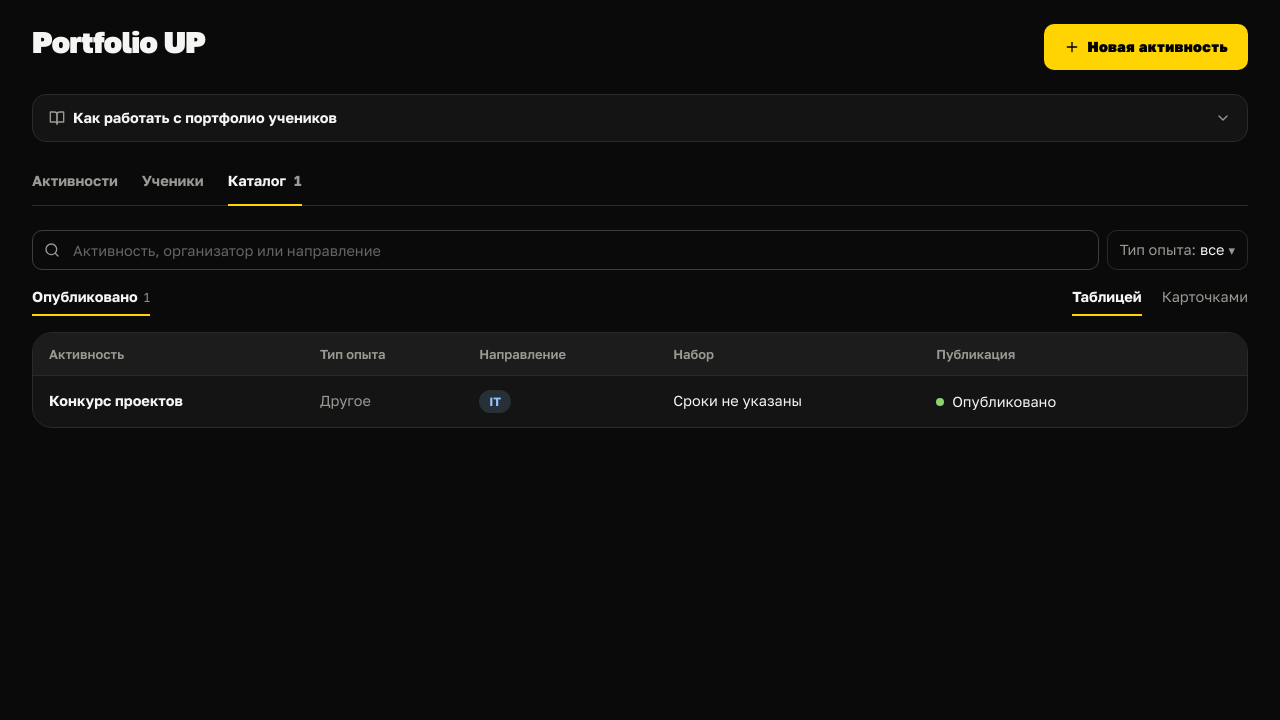
повторная выдача сообщает о существующем участии и сохраняет его план
Click the button "Конкурс проектов": (116, 401) [49,390,183,412]
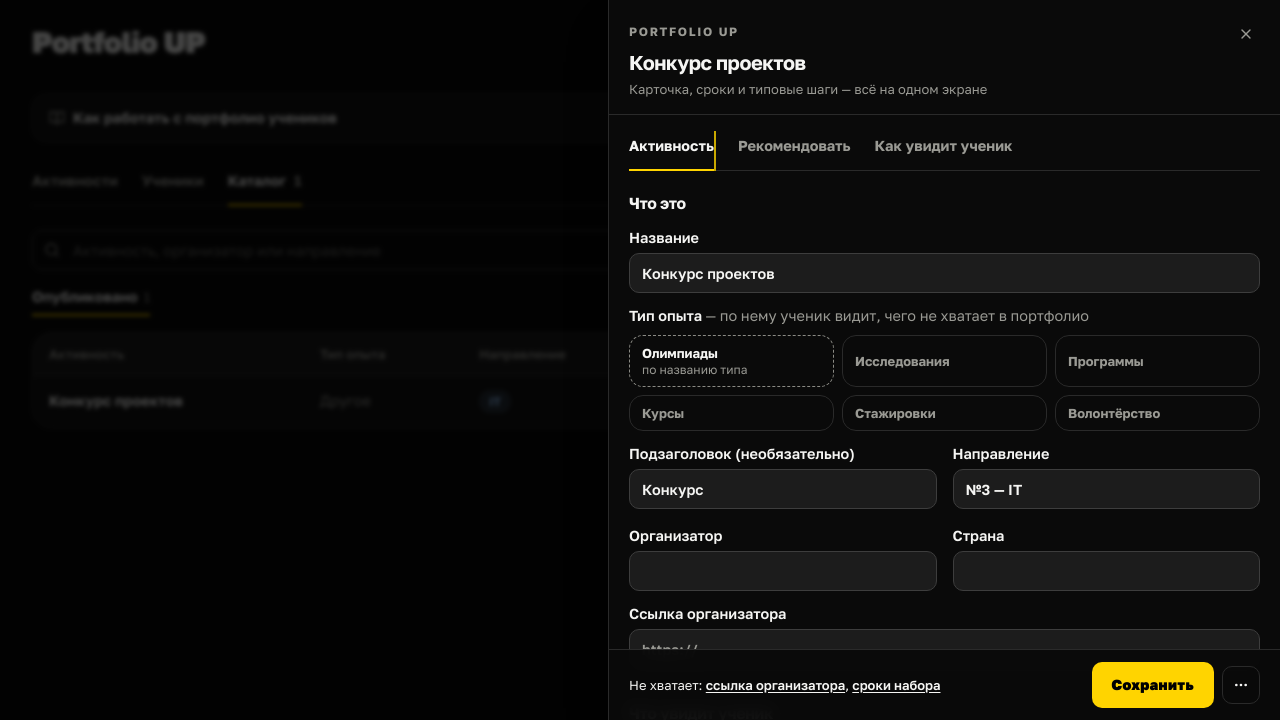
Click the tab "Рекомендовать": (794, 151) [738,131,851,171]
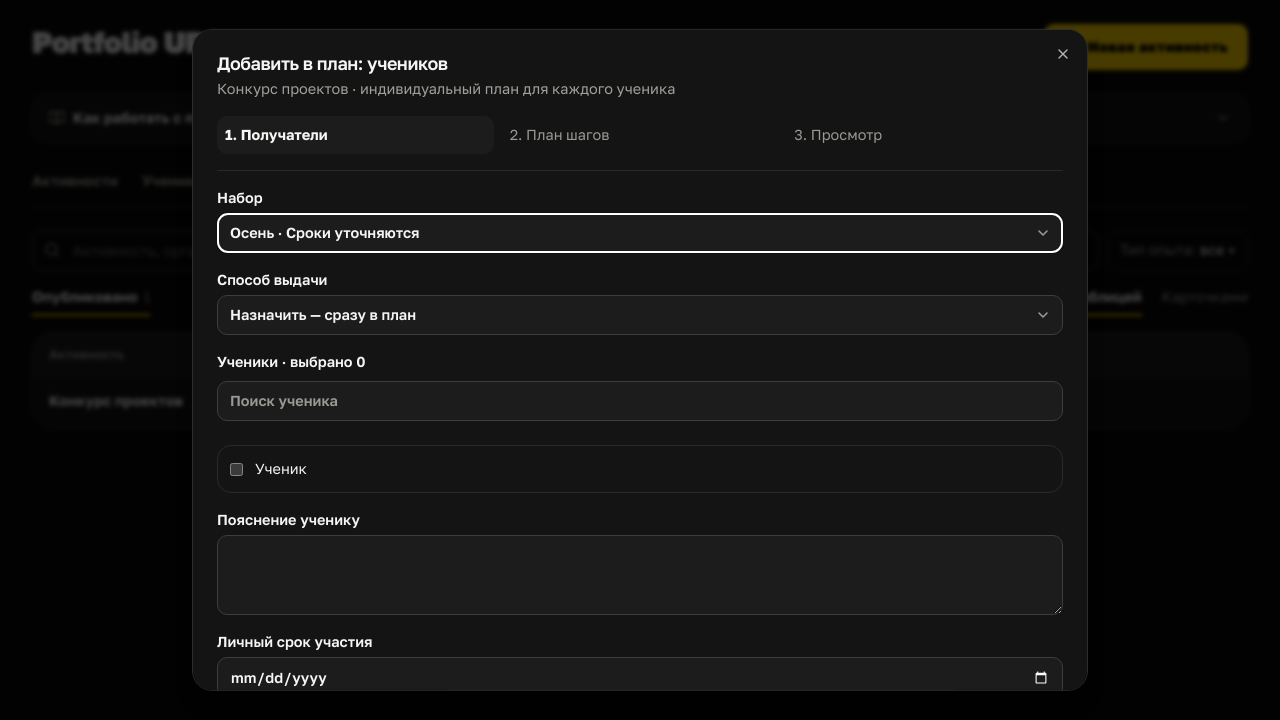
Click the checkbox: (236, 469) [230,462,243,475]
(page scrolled)
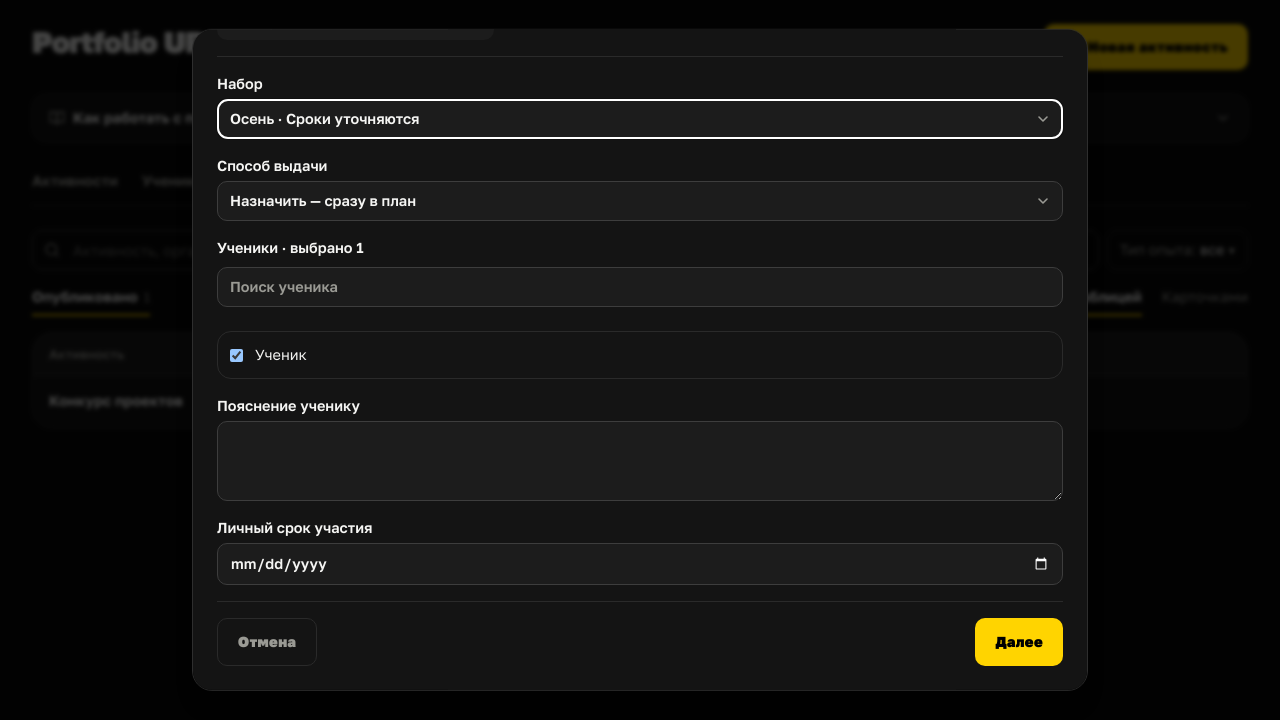
Click the button "Далее": (1019, 642) [975,618,1063,666]
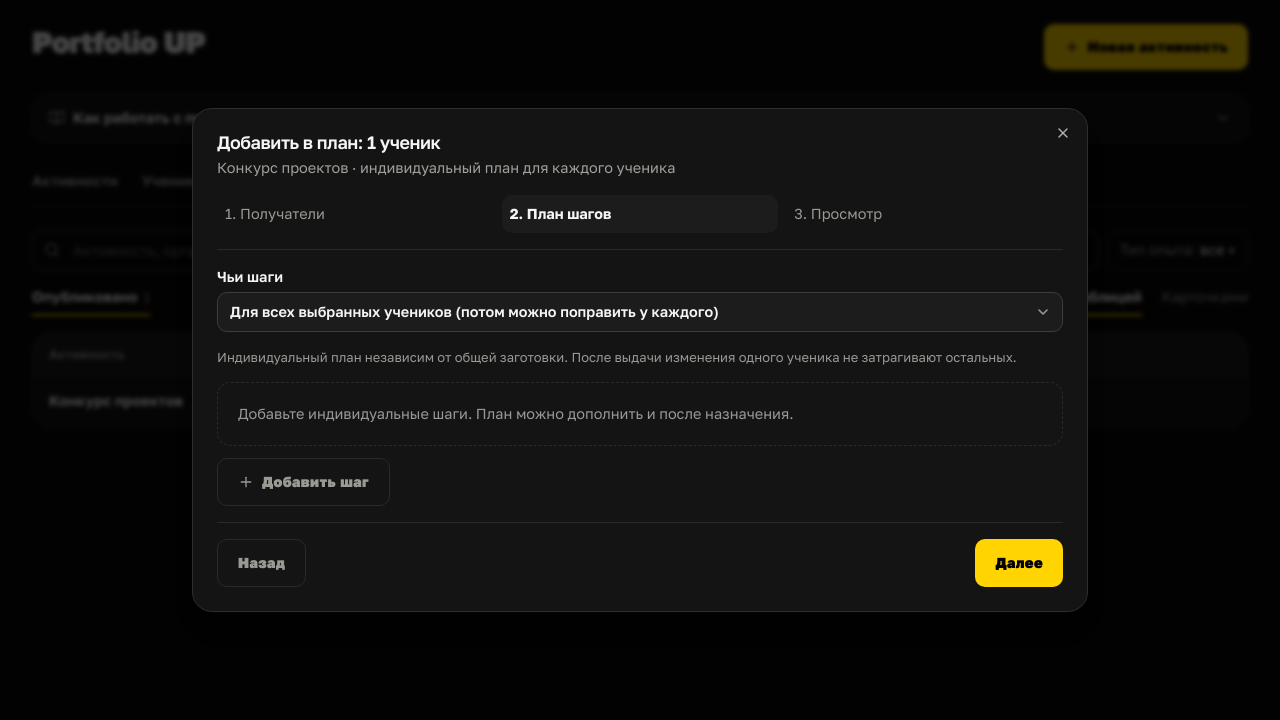
Click the button "Далее": (1019, 563) [975,539,1063,587]
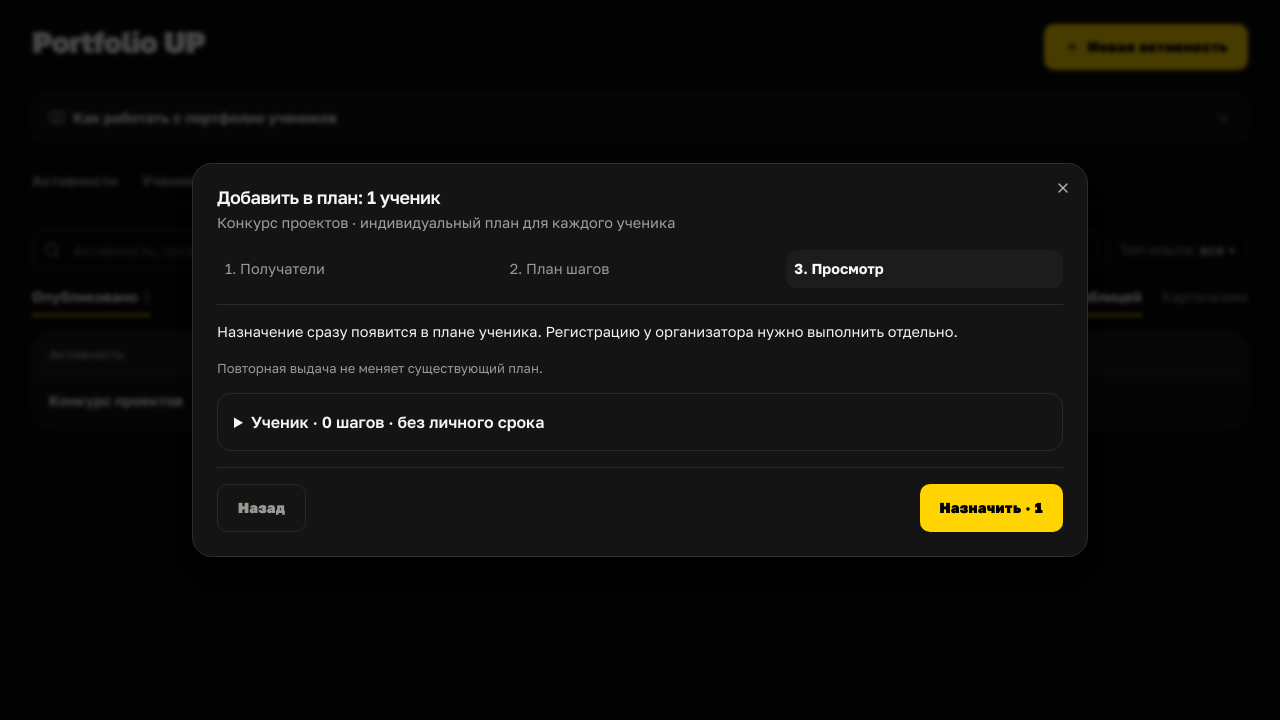
Click the button "Назначить · 1": (991, 508) [920,484,1063,532]
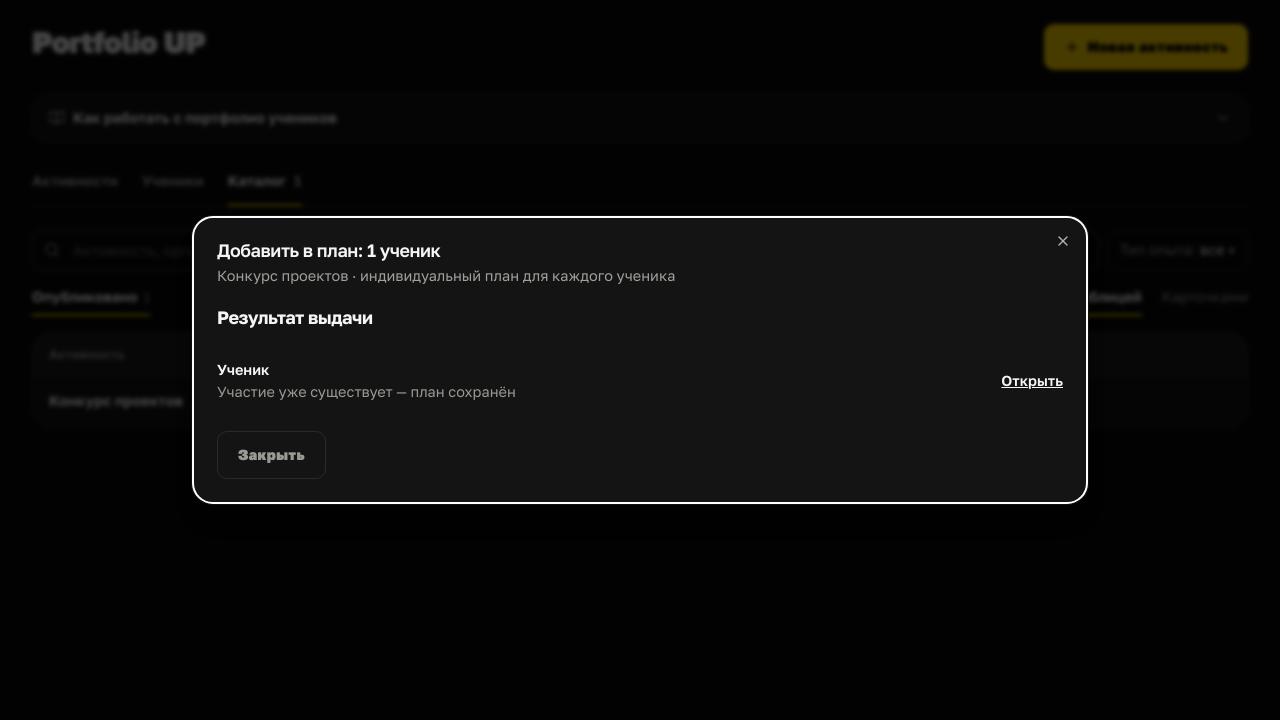
Expected: the text "Участие уже существует — план сохранён" is shown, [217,381,516,403]
